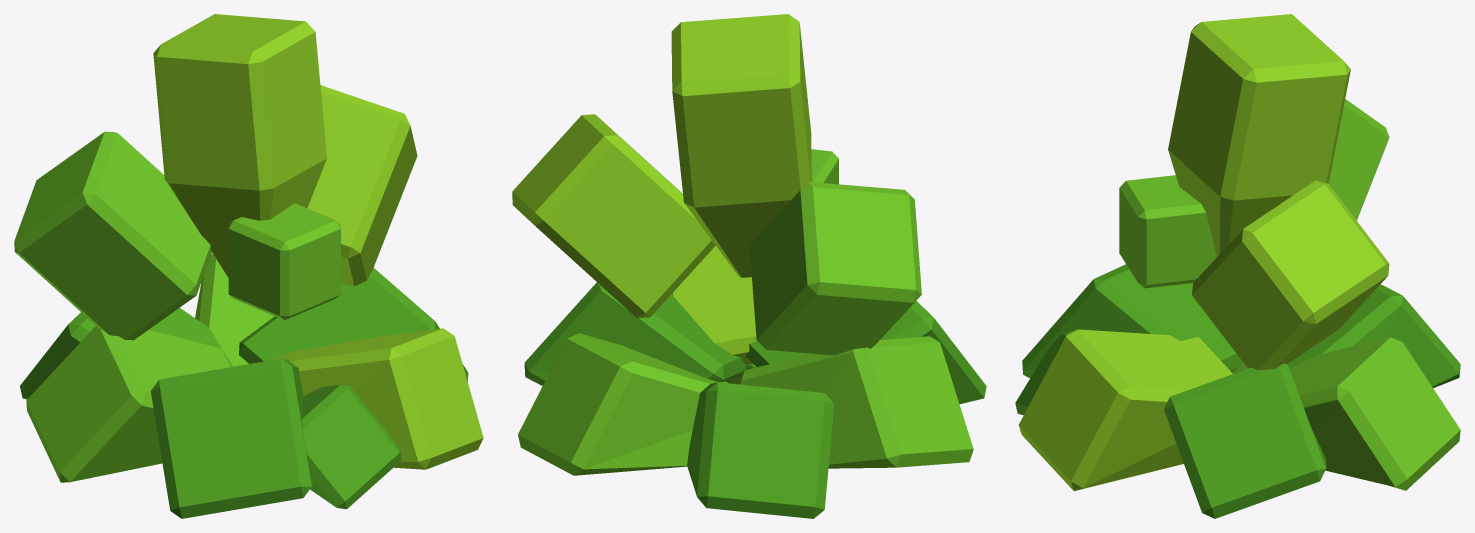
File: MossyGlade_FernBush.glb
3 renders of one model, left to right at view 1: azimuth 30°, elevation 25°; view 2: azimuth 150°, elevation 25°; view 3: azimuth 270°, elevation 25°, orthographic.
Parts seen in each view (by area): view 1: Leaf_Center, Leaf_Up_L, Leaf_Low_FL, Leaf_Low_L, Leaf_Low_FR, Leaf_Up_R, Leaf_Bud, Leaf_Low_F, Leaf_Low_R, Leaf_Low_BR, Leaf_Low_BL; view 2: Leaf_Center, Leaf_Up_L, Leaf_Up_R, Leaf_Low_BR, Leaf_Low_L, Leaf_Low_BL, Leaf_Low_R, Leaf_Low_FR, Leaf_Low_FL, Leaf_Bud; view 3: Leaf_Center, Leaf_Up_R, Leaf_Low_FR, Leaf_Low_BR, Leaf_Low_R, Leaf_Low_FL, Leaf_Bud, Leaf_Low_BL, Leaf_Up_L, Leaf_Low_F.
Part boxes in pixels (x1,y1,x2,y2): Leaf_Center: (153, 14, 326, 278); Leaf_Up_L: (14, 131, 211, 340); Leaf_Low_FL: (150, 358, 313, 518); Leaf_Low_L: (26, 326, 229, 482); Leaf_Low_FR: (270, 328, 483, 469); Leaf_Up_R: (307, 85, 417, 286); Leaf_Bud: (228, 203, 340, 320); Leaf_Low_F: (302, 385, 401, 509); Leaf_Low_R: (239, 268, 468, 381); Leaf_Low_BR: (195, 254, 274, 366); Leaf_Low_BL: (20, 307, 233, 399); Leaf_Center: (671, 14, 811, 277); Leaf_Up_L: (749, 182, 921, 355); Leaf_Up_R: (512, 114, 715, 318); Leaf_Low_BR: (518, 333, 728, 475); Leaf_Low_L: (740, 336, 973, 468); Leaf_Low_BL: (687, 382, 834, 518); Leaf_Low_R: (524, 282, 745, 385); Leaf_Low_FR: (672, 246, 756, 384); Leaf_Low_FL: (745, 300, 986, 404); Leaf_Bud: (811, 149, 838, 184); Leaf_Center: (1168, 14, 1350, 256); Leaf_Up_R: (1192, 180, 1389, 370); Leaf_Low_FR: (1018, 329, 1232, 490); Leaf_Low_BR: (1289, 337, 1460, 490); Leaf_Low_R: (1164, 363, 1326, 518); Leaf_Low_FL: (1022, 264, 1239, 377); Leaf_Bud: (1119, 175, 1216, 288); Leaf_Low_BL: (1287, 284, 1460, 388); Leaf_Up_L: (1328, 99, 1389, 220); Leaf_Low_F: (1015, 333, 1067, 415).
Size of the model in its own units: 0.82 by 0.75 by 0.7754.
